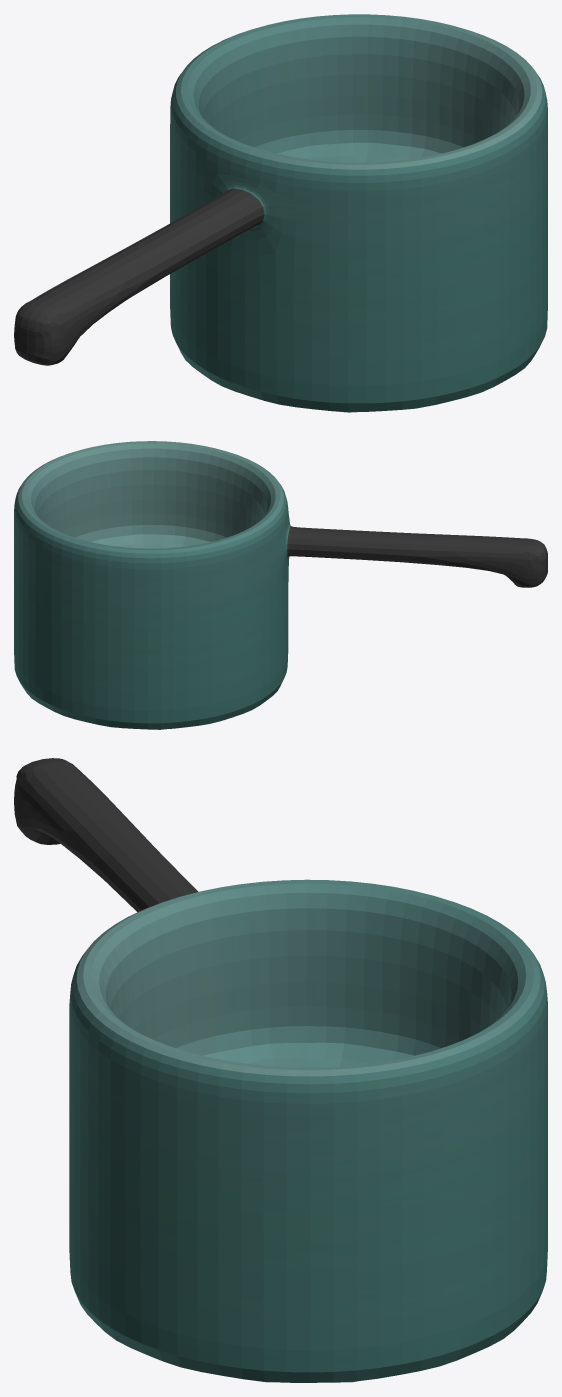
File: Span.fbx
The picture shows the model from 3 angles, top to bottom: view 1: azimuth 30°, elevation 25°; view 2: azimuth 150°, elevation 25°; view 3: azimuth 270°, elevation 25°; orthographic projection. The views are drawn at different scales.
Visible parts, largest first — view 1: Span; view 2: Span; view 3: Span.
Boxes of the visible parts, x1,y1,x2,y2 form: Span: (14, 14, 547, 412); Span: (14, 441, 547, 729); Span: (14, 758, 547, 1382).
Bounding box in the file's own units: 183 × 73.55 × 110.
